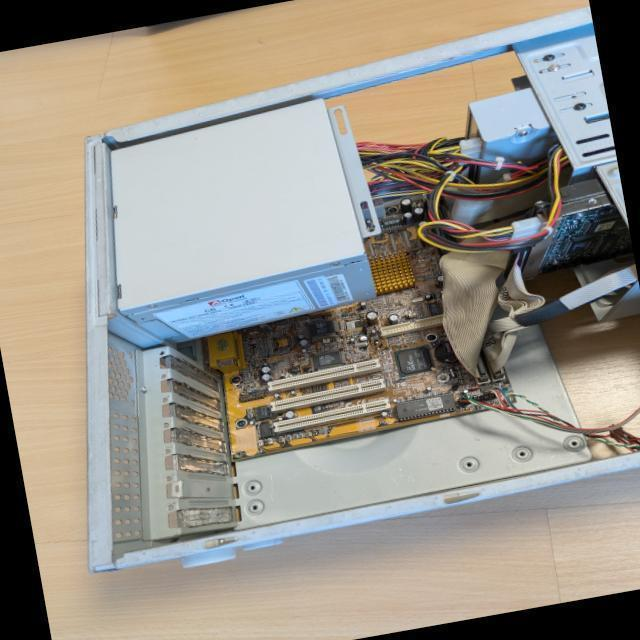DISK: (498, 176, 634, 280)
Mainboard: (193, 184, 522, 456)
PSU: (88, 93, 379, 351)
